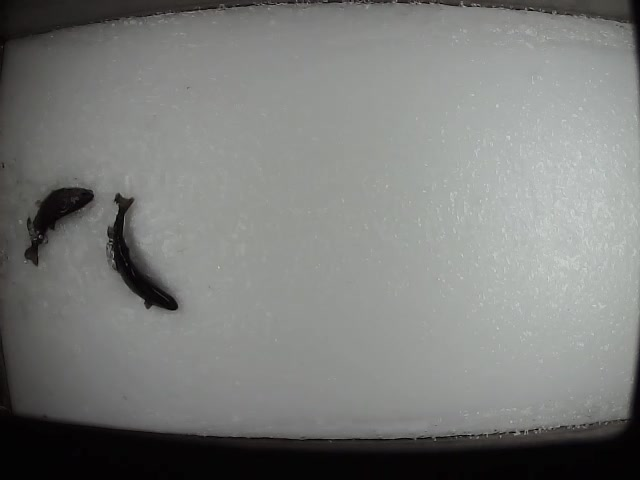fish: (103, 190, 179, 312), (21, 184, 96, 269)
